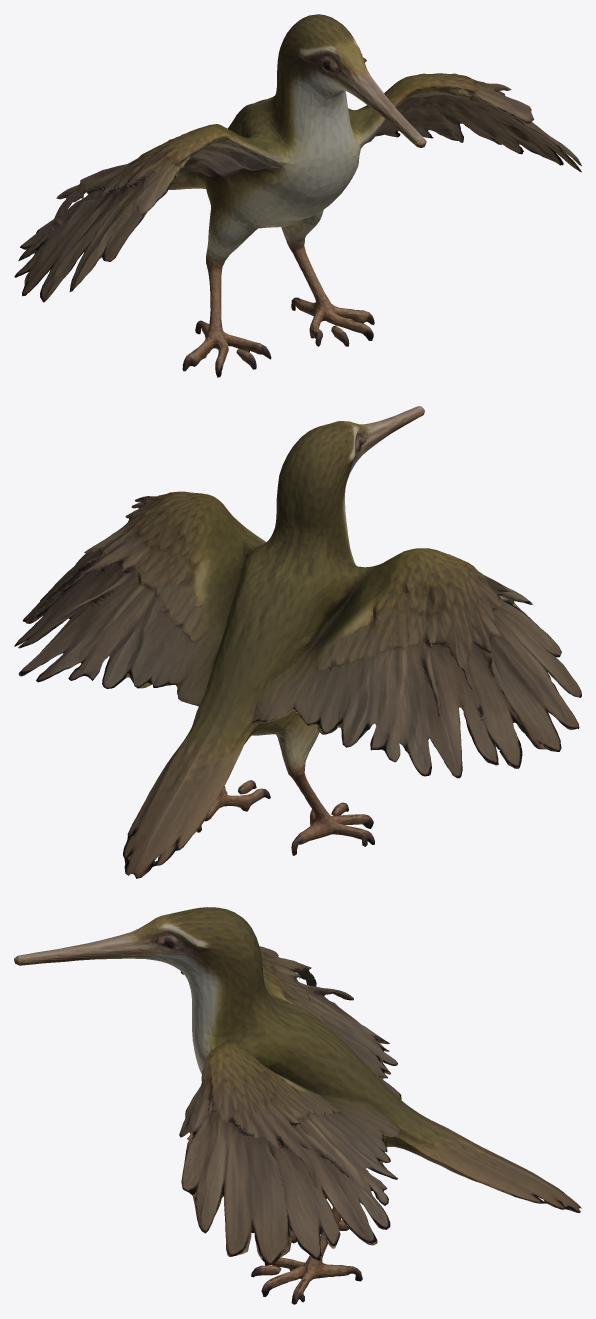
3 renders of one model, top to bottom at view 1: azimuth 30°, elevation 25°; view 2: azimuth 150°, elevation 25°; view 3: azimuth 270°, elevation 25°, orthographic. The views are drawn at different scales.
Visible parts, largest first — view 1: world; view 2: world; view 3: world.
Part boxes in pixels (x1,y1,x2,y2): world: [14, 14, 581, 377]; world: [14, 406, 581, 878]; world: [14, 907, 581, 1304].
Size of the model in its own units: 1 by 0.6387 by 0.9367.
Materials: 1 (1 with a texture image).
